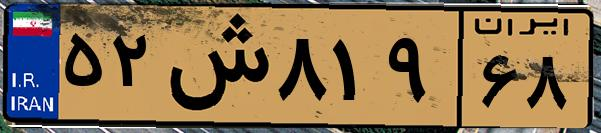1: (330, 28, 385, 110)
2: (110, 28, 158, 98)
5: (57, 26, 110, 100)
6: (475, 38, 525, 113)
8: (270, 28, 330, 110), (525, 38, 570, 115)
9: (385, 28, 445, 110)
ش: (158, 12, 270, 120)
